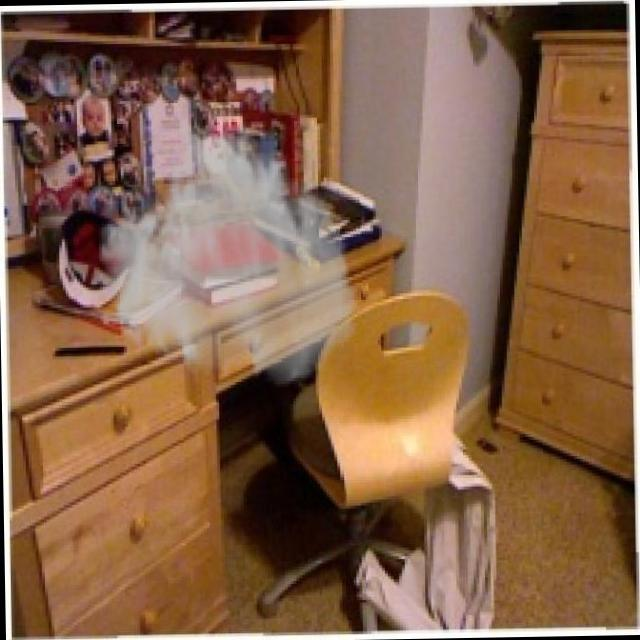Smoke: (90, 111, 361, 393)
